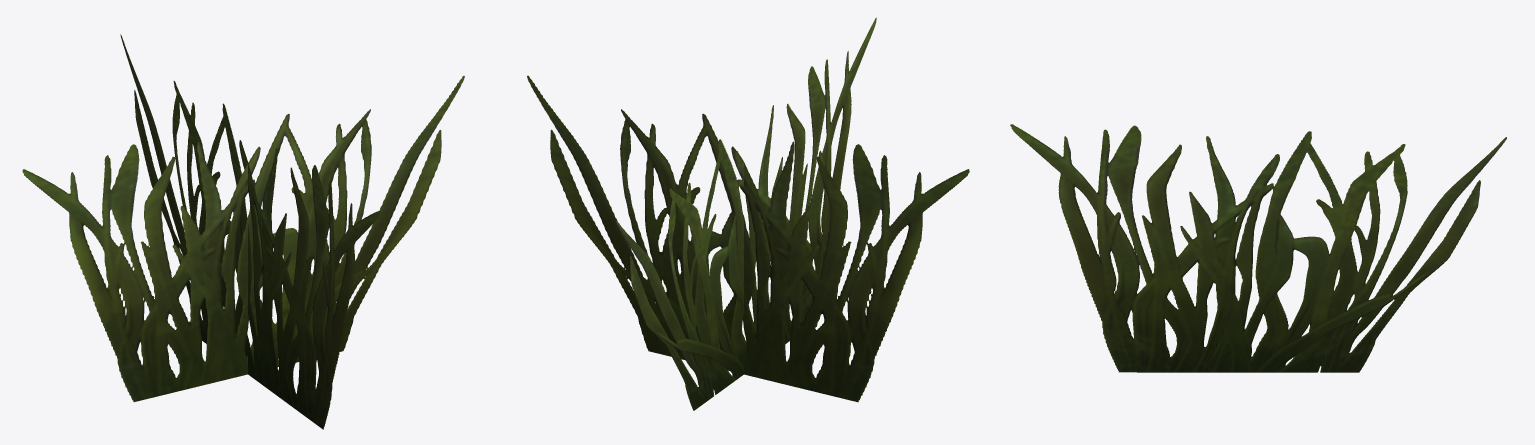
File: fanasty_mod_grass02.fbx
3 views of the same model, side by side, from view 1: azimuth 30°, elevation 25°; view 2: azimuth 150°, elevation 25°; view 3: azimuth 270°, elevation 25° (orthographic). The views are drawn at different scales.
Visible parts, largest first — view 1: grass_02; view 2: grass_02; view 3: grass_02.
Boxes of the visible parts, x1,y1,x2,y2 form: grass_02: (22,34,464,429); grass_02: (527,17,969,410); grass_02: (1010,124,1506,372).
Bounding box in the file's own units: 2 × 1.07 × 2.
